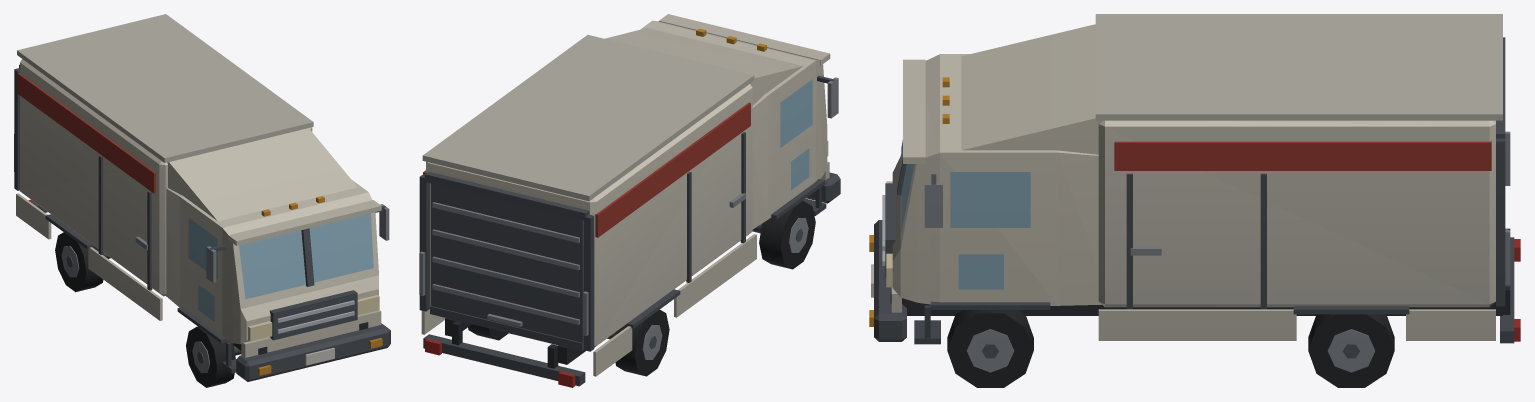
The model's file is box_truck_01.glb.
3 views of the same model, side by side, from view 1: azimuth 30°, elevation 25°; view 2: azimuth 150°, elevation 25°; view 3: azimuth 270°, elevation 25° (orthographic). The views are drawn at different scales.
Parts seen in each view (by area): view 1: box_truck_01; view 2: box_truck_01; view 3: box_truck_01.
Boxes of the visible parts, bbox=[...] form: box_truck_01: bbox=[14, 14, 390, 387]; box_truck_01: bbox=[419, 14, 840, 387]; box_truck_01: bbox=[869, 14, 1520, 387].
Bounding box in the file's own units: 1.69 × 1.81 × 3.92.
